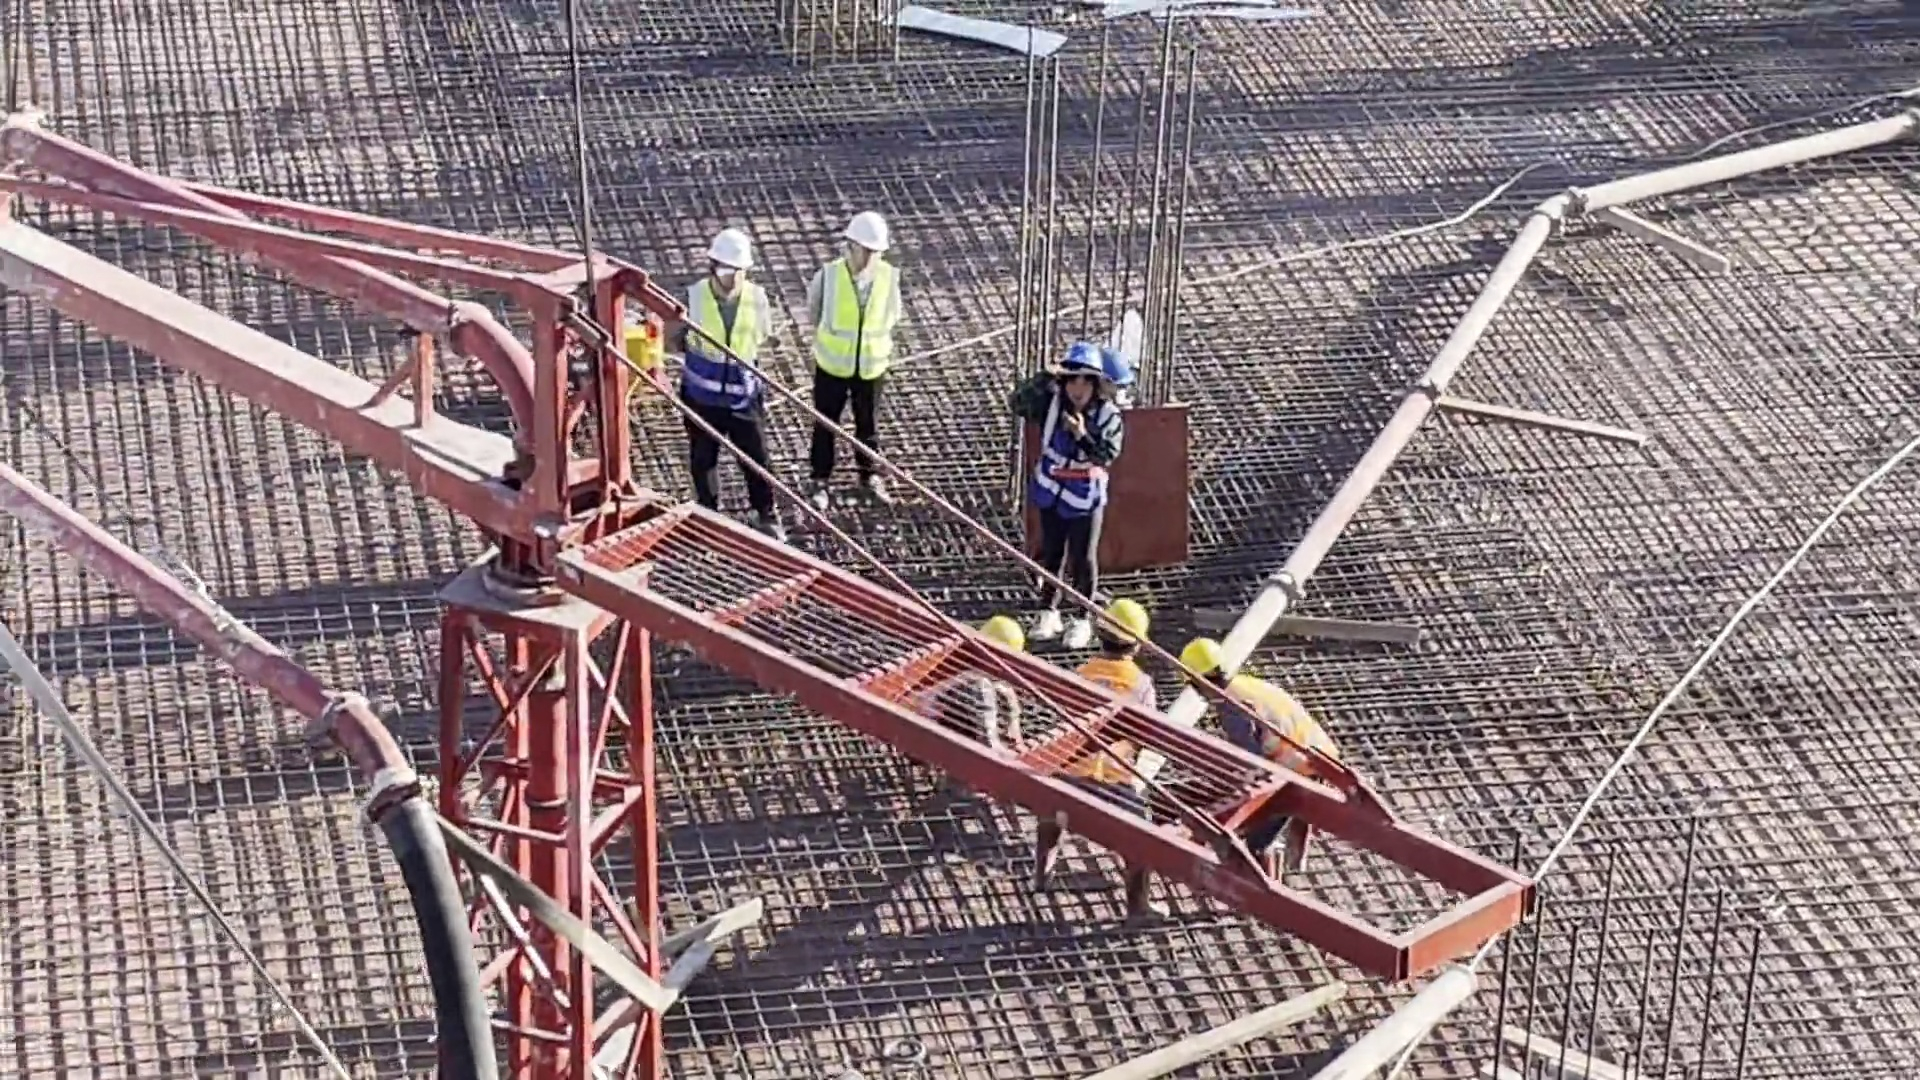helmet: (1100, 598, 1148, 645), (1166, 642, 1224, 681), (843, 217, 894, 260), (709, 233, 754, 269), (1062, 345, 1098, 376), (1103, 354, 1127, 388), (970, 626, 1008, 648)
person: (1003, 595, 1166, 919), (1151, 630, 1349, 889), (1002, 339, 1124, 648), (679, 215, 784, 557), (796, 197, 904, 504), (883, 594, 1039, 804)
vest: (1038, 660, 1125, 794), (1209, 683, 1323, 776), (817, 263, 903, 357), (692, 285, 766, 394), (1058, 422, 1088, 510)
